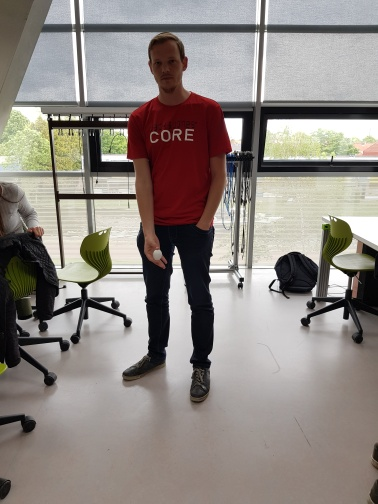egg: (150, 247, 165, 262)
